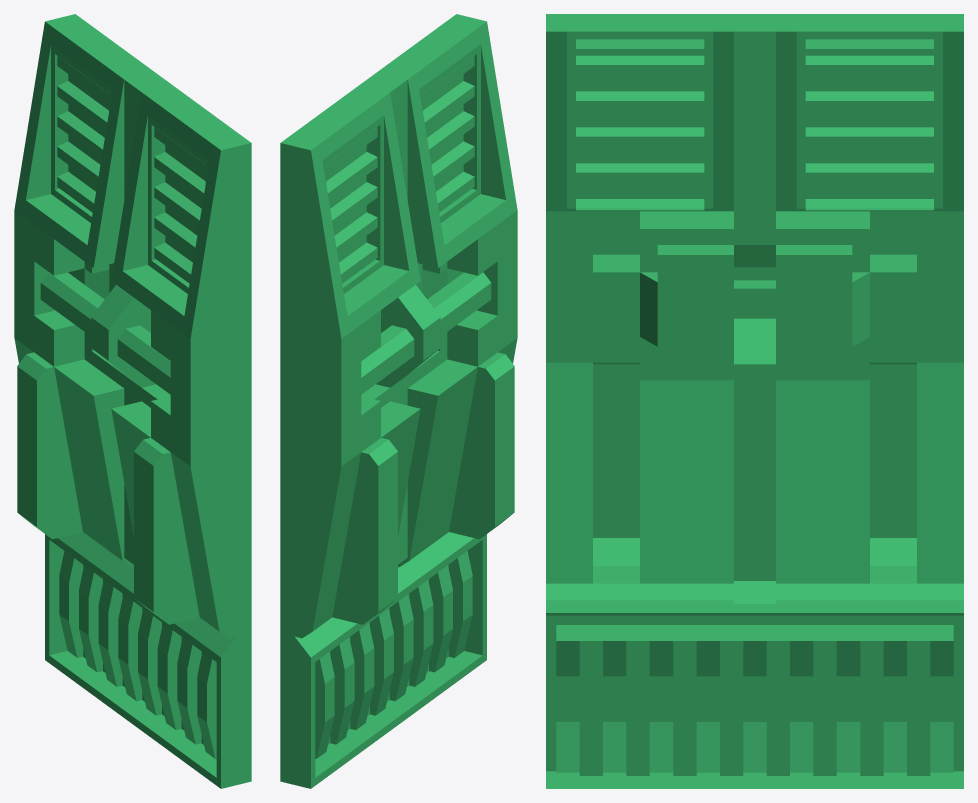
The model's file is Wall_B_4x2m.FBX.
3 views of the same model, side by side, from view 1: azimuth 30°, elevation 25°; view 2: azimuth 150°, elevation 25°; view 3: azimuth 270°, elevation 25° (orthographic). The views are drawn at different scales.
Visible parts, largest first — view 1: Wall_B_4x2m; view 2: Wall_B_4x2m; view 3: Wall_B_4x2m.
Part boxes in pixels (<box>): Wall_B_4x2m: <box>14,14,251,788</box>; Wall_B_4x2m: <box>280,14,517,788</box>; Wall_B_4x2m: <box>546,14,963,788</box>.
Size of the model in its own units: 51.18 by 400 by 200.
